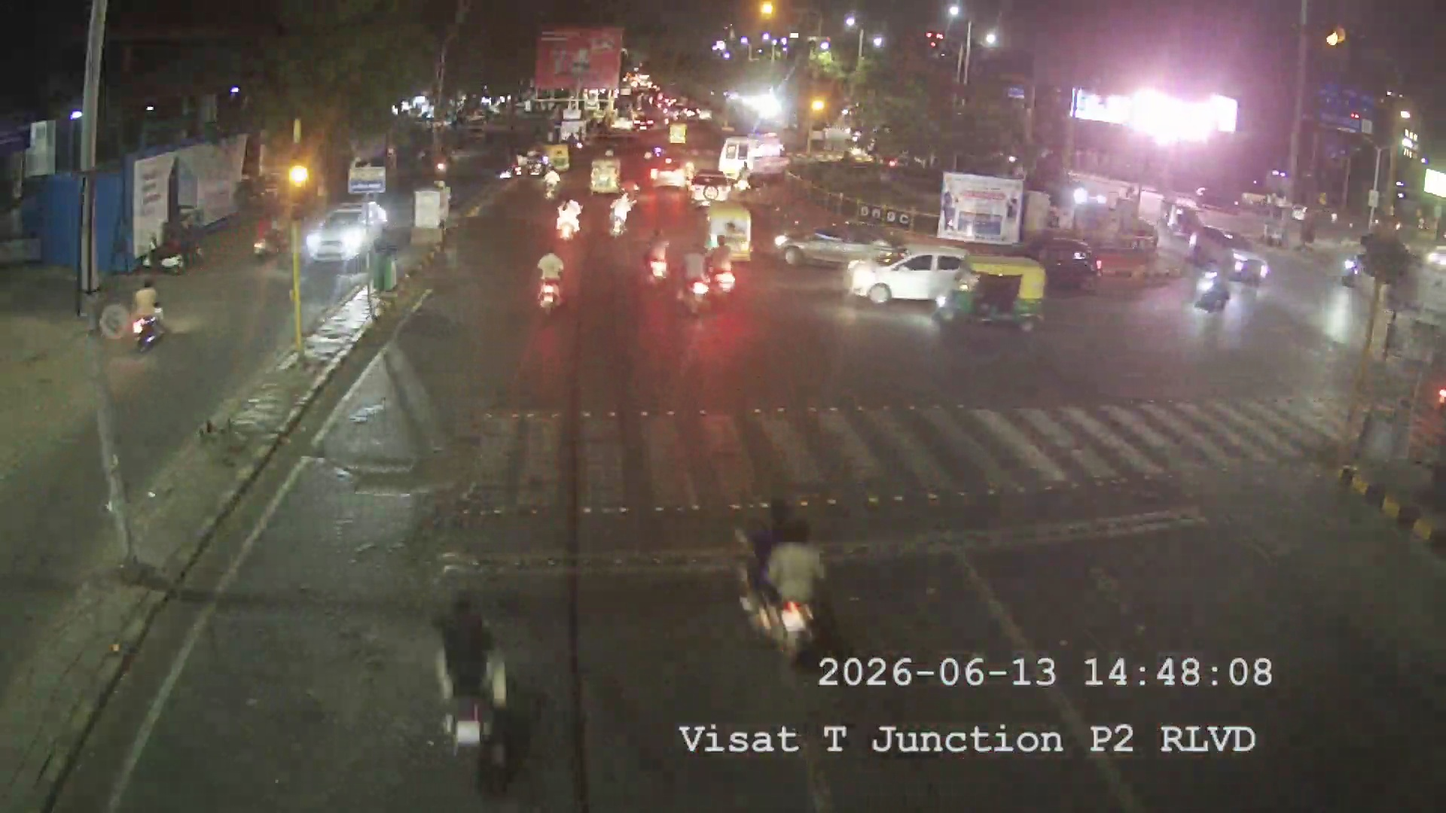auto_rickshaw: (948, 251, 1051, 331), (704, 202, 753, 259), (1231, 243, 1272, 289), (589, 150, 623, 191)
car: (848, 241, 977, 311), (305, 197, 384, 264), (347, 154, 389, 194), (686, 170, 730, 206), (648, 149, 688, 188)
two_wheeler: (415, 589, 520, 772), (746, 539, 833, 665), (125, 278, 170, 352), (700, 245, 746, 306), (531, 245, 569, 315), (1187, 257, 1227, 322), (684, 244, 718, 310), (681, 245, 712, 317), (641, 224, 674, 286), (707, 245, 740, 303), (250, 212, 282, 265), (553, 192, 586, 242), (604, 186, 633, 240), (1335, 245, 1367, 290)
